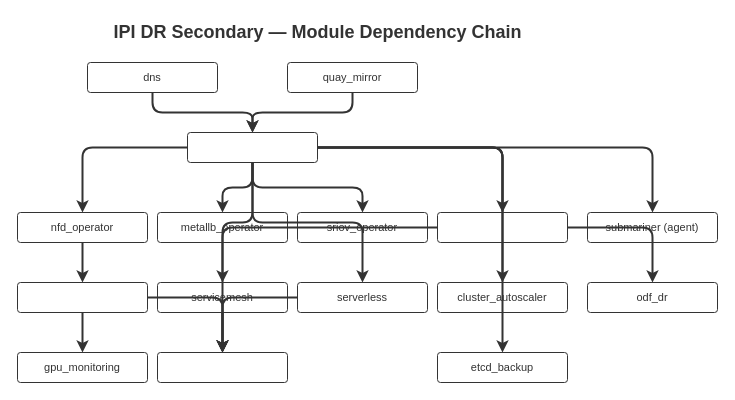
The diagram is 735 pixels wide and 400 high, and some of its shapes have lost their labels. Each missing label, with the box of its shape:
gpu_operator: (16, 282, 148, 312)
ocp_baremetal: (186, 132, 318, 162)
odf_operator: (436, 212, 568, 242)
openshift_ai: (156, 352, 288, 382)
